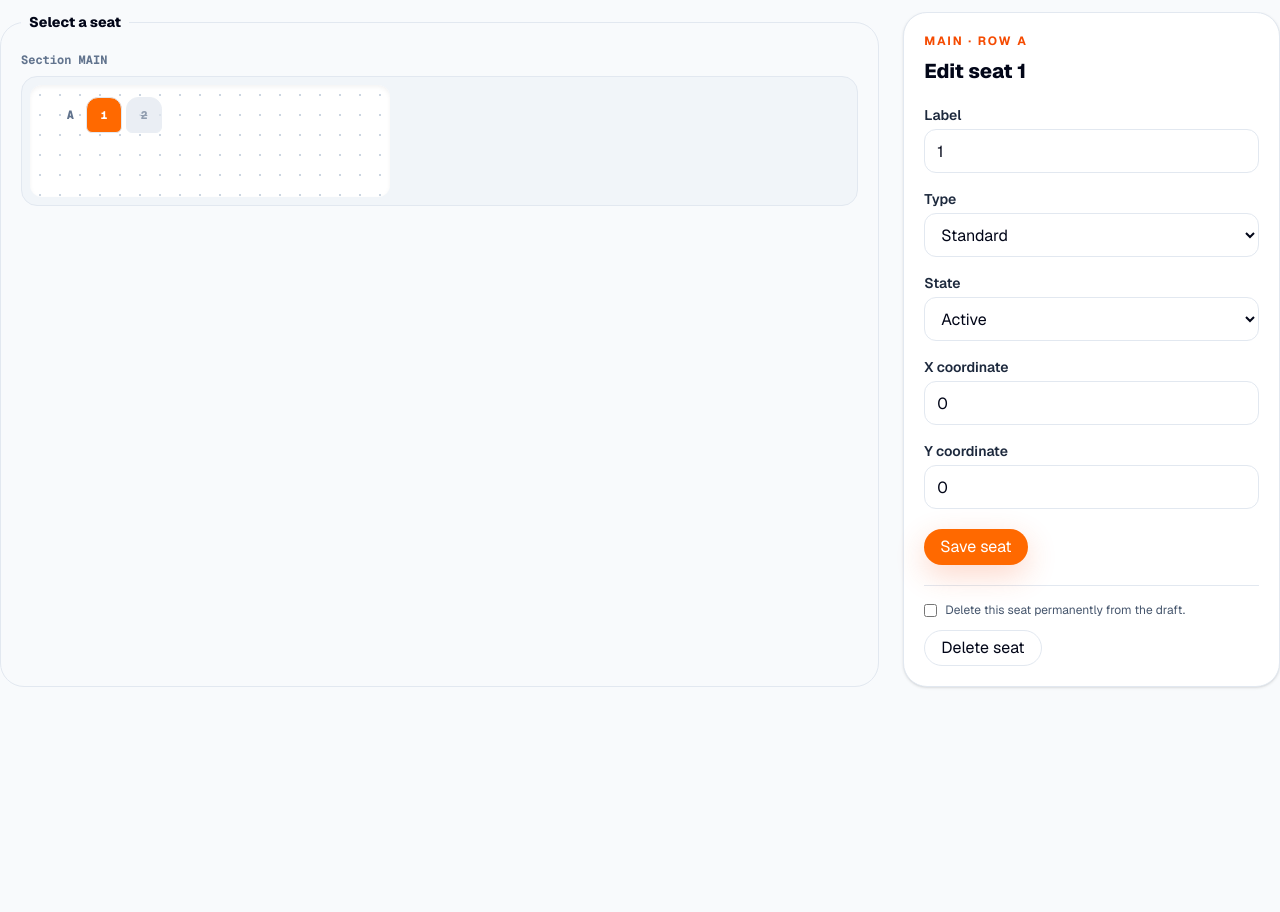
Test: seat-map components › uses semantic radio selection to edit a different seat
Click the radio button named "MAIN row A seat 2" at (144, 115), box [126, 97, 162, 133]
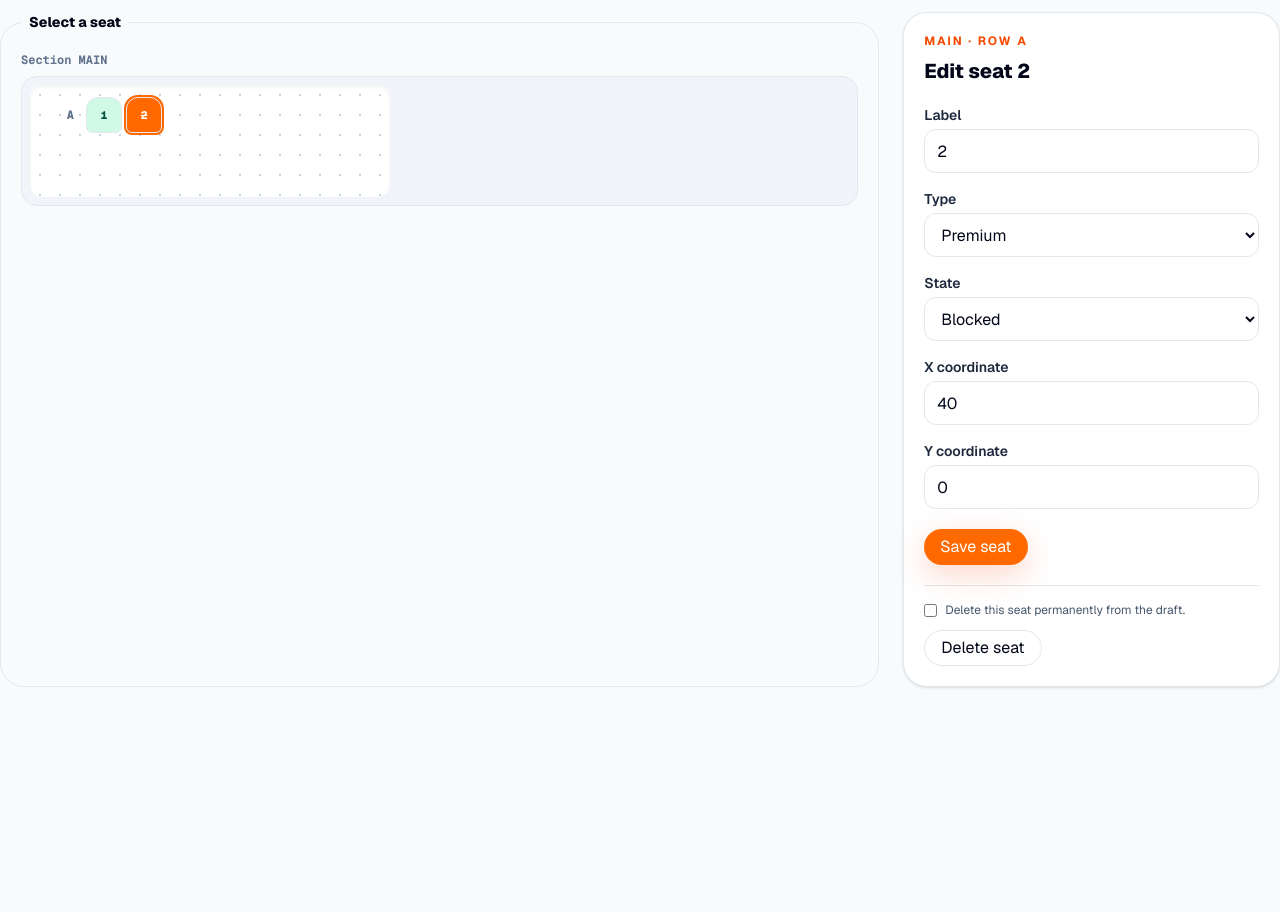
Now the heading "Edit seat 2" is shown, box [924, 58, 1030, 84]
Now the dropdown labelled "State" shows "Blocked", box [924, 297, 1259, 341]
